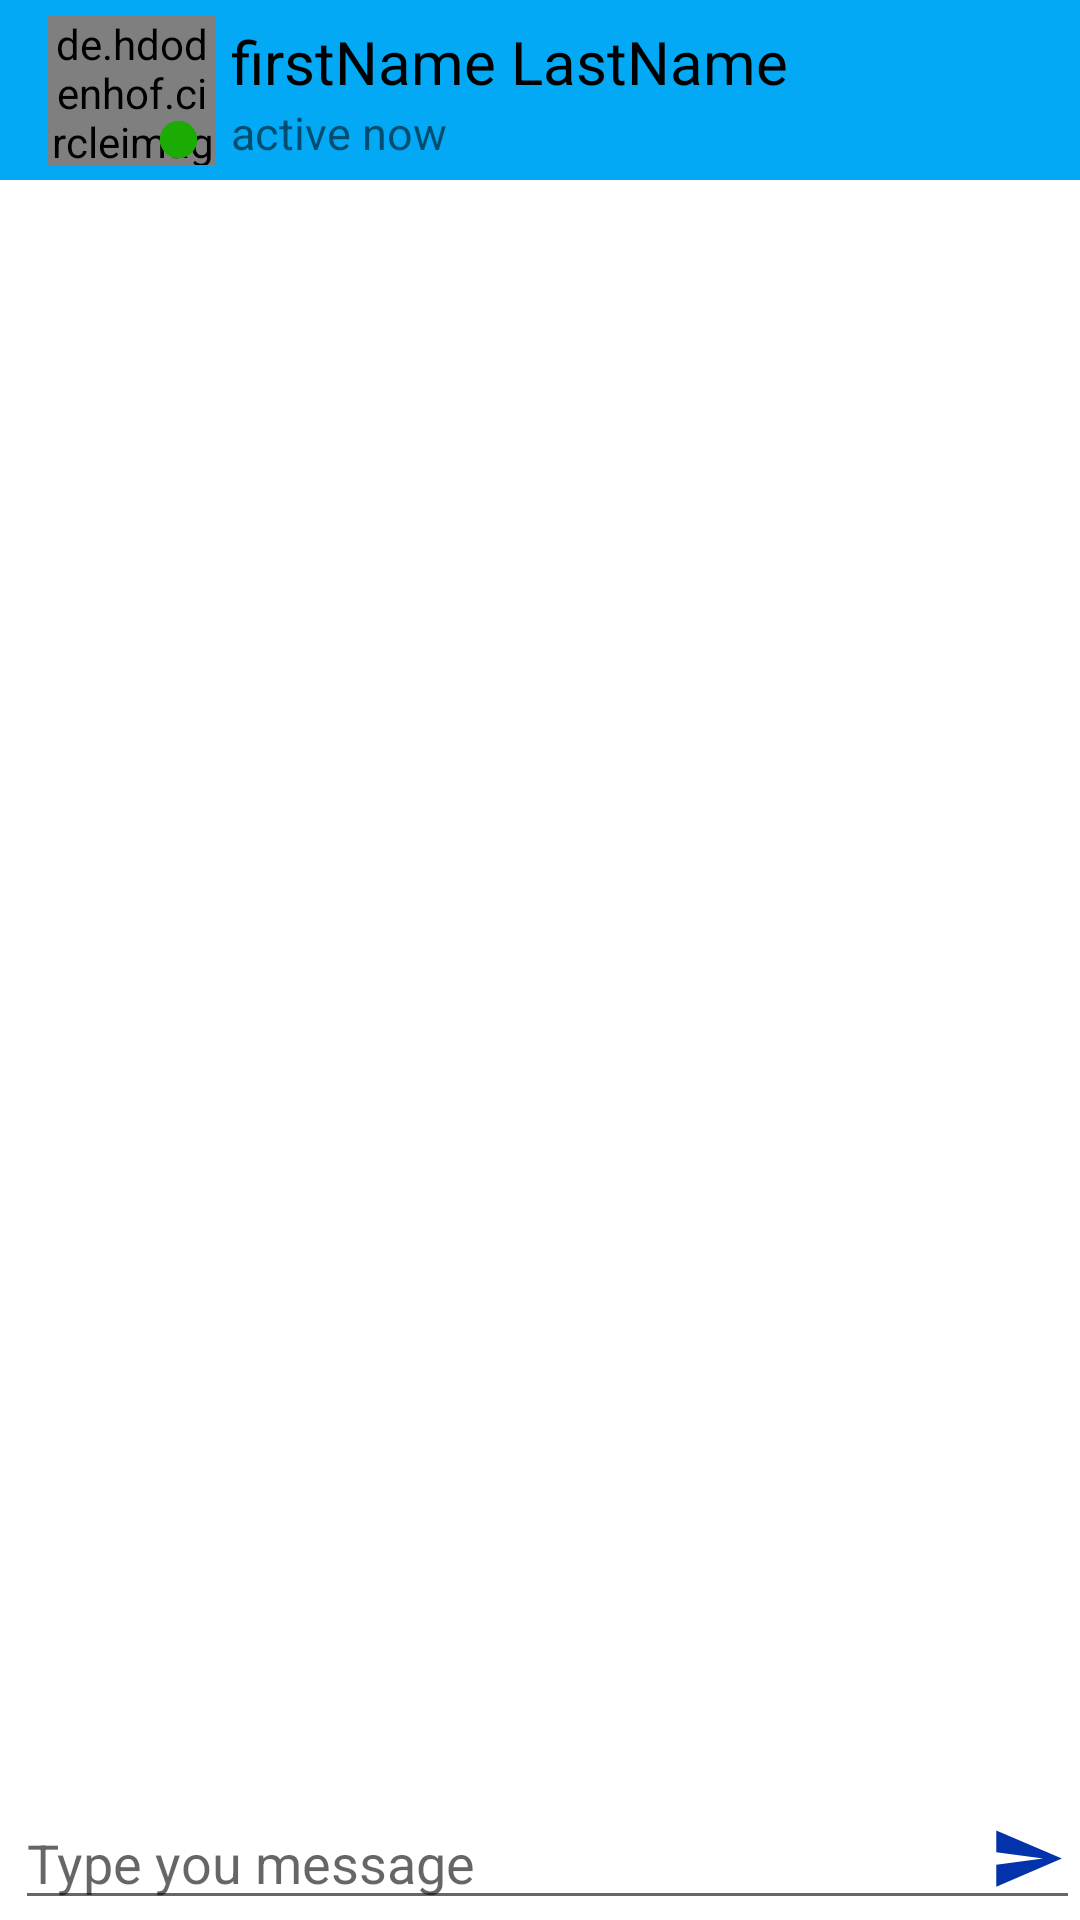

Icon click points for this 1080px×1920px phone screenshot, format (x,y):
send: (1029,1858)
